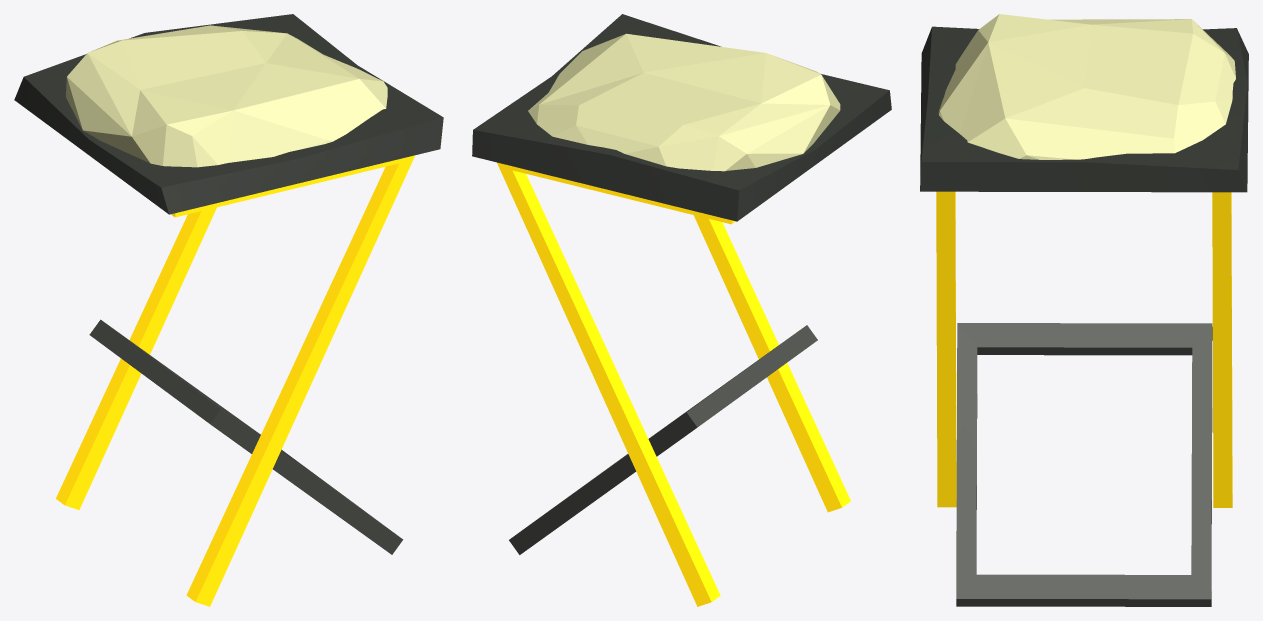
Rendered from Stool_C.glb.
3 views of the same model, side by side, from view 1: azimuth 30°, elevation 25°; view 2: azimuth 150°, elevation 25°; view 3: azimuth 270°, elevation 25° (orthographic). The views are drawn at different scales.
Parts seen in each view (by area): view 1: BarChair_C; view 2: BarChair_C; view 3: BarChair_C.
Boxes of the visible parts, x1,y1,x2,y2 form: BarChair_C: (14, 14, 443, 606); BarChair_C: (472, 14, 891, 606); BarChair_C: (920, 14, 1248, 606).
Size of what is drawn, in the model's own units: 0.6171 by 0.9966 by 0.6029.
Materials: 1 (1 with a texture image).
